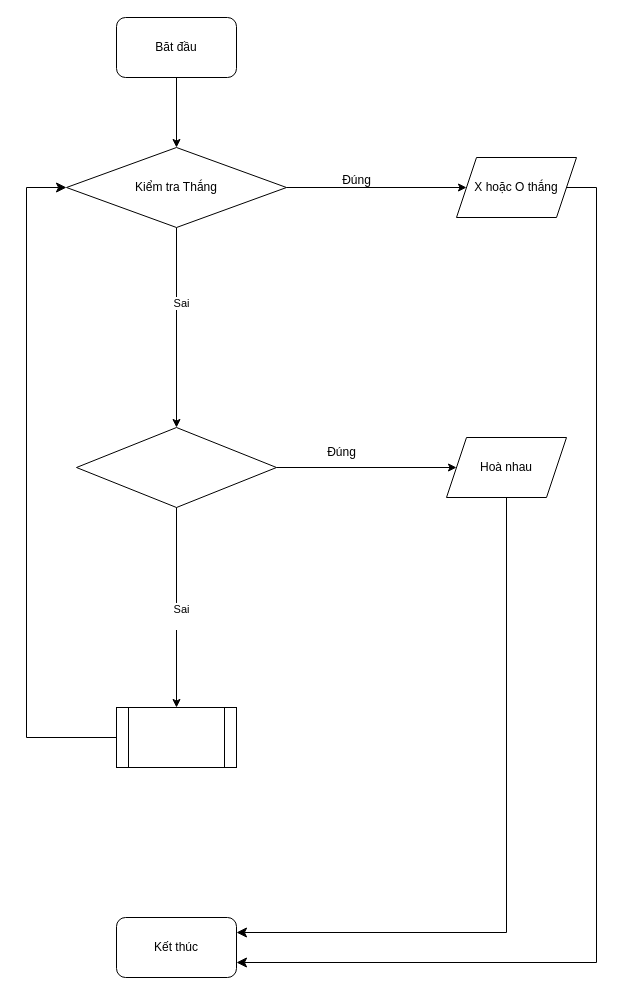
The diagram is 624 pixels wide and 995 high, and some of its shapes have lost their labels. Each missing label, with the centre of its shape:
"Kiểm tra đầy" belongs at point (176, 467).
"Đánh XO" belongs at point (176, 737).
